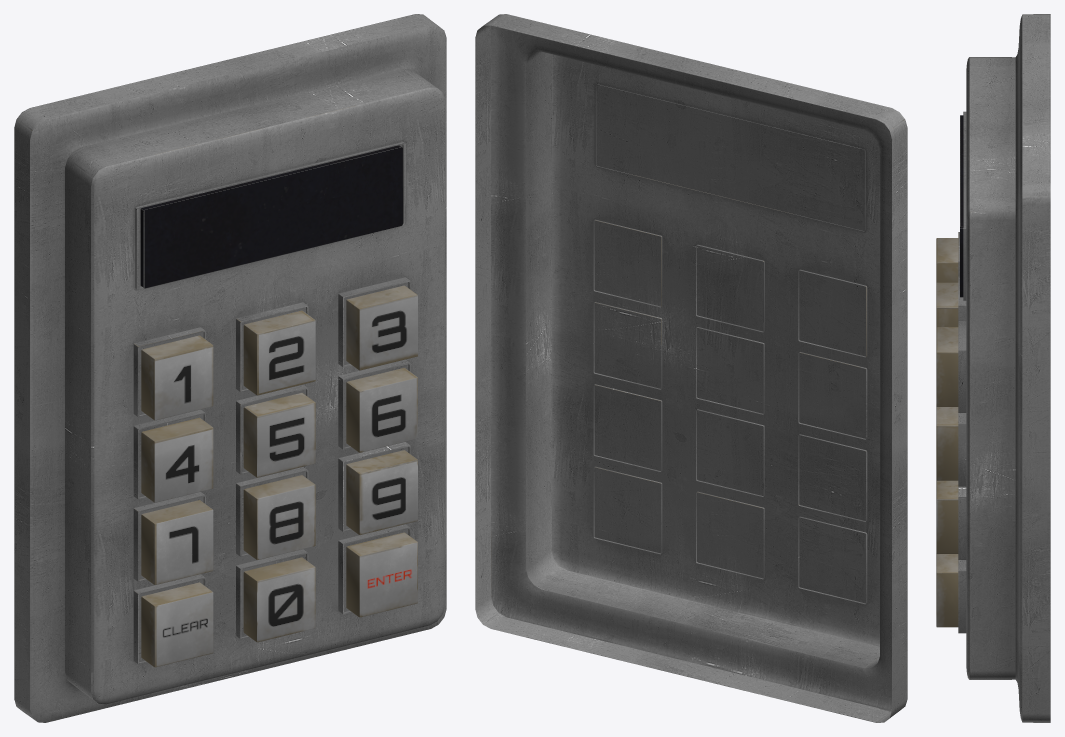
The model's file is SM_Prop_Keypad.fbx.
3 renders of one model, left to right at view 1: azimuth 30°, elevation 25°; view 2: azimuth 150°, elevation 25°; view 3: azimuth 270°, elevation 25°, orthographic. The views are drawn at different scales.
Visible parts, largest first — view 1: SM_Prop_Keypad; view 2: SM_Prop_Keypad; view 3: SM_Prop_Keypad.
Part boxes in pixels (left/top/right/bottom): SM_Prop_Keypad: left=14, top=14, right=446, bottom=722; SM_Prop_Keypad: left=475, top=14, right=907, bottom=722; SM_Prop_Keypad: left=936, top=14, right=1050, bottom=722.
Size of the model in its own units: 19.59 by 27.1 by 5.21.
Materials: 1 (1 with a texture image).
